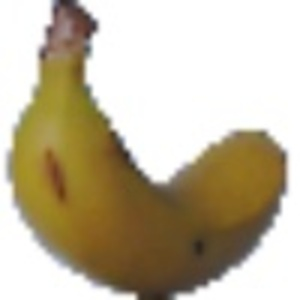banana: (8, 2, 291, 292)
